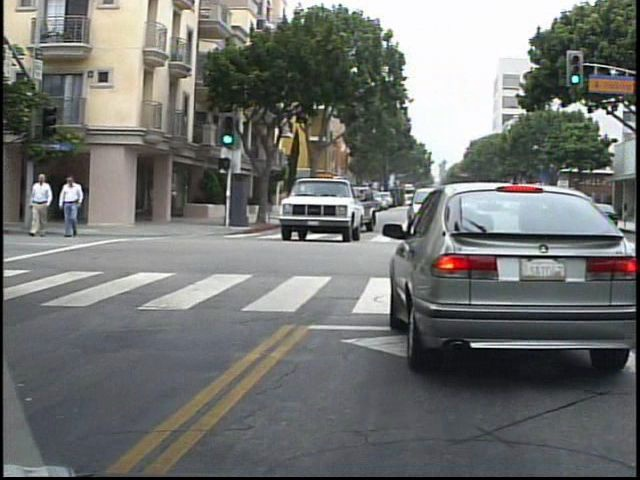person: (33, 170, 64, 242), (63, 173, 91, 240)
